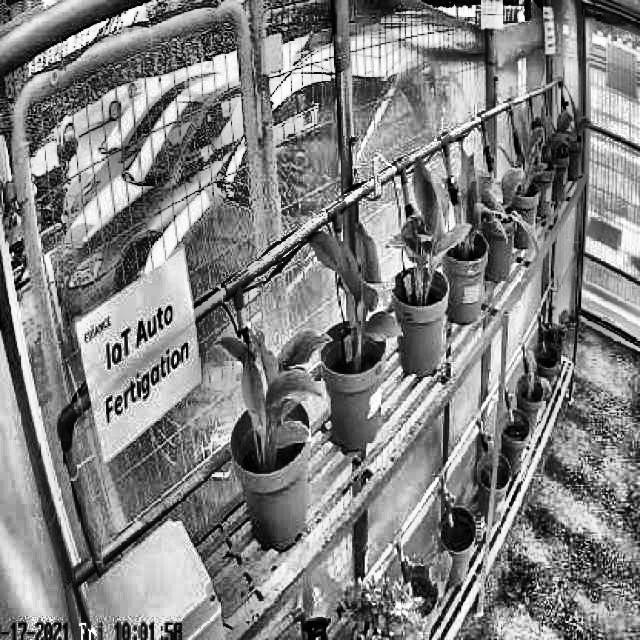plants: (218, 331, 332, 447), (308, 225, 402, 342), (390, 156, 468, 290), (453, 146, 502, 252), (516, 117, 546, 197)
